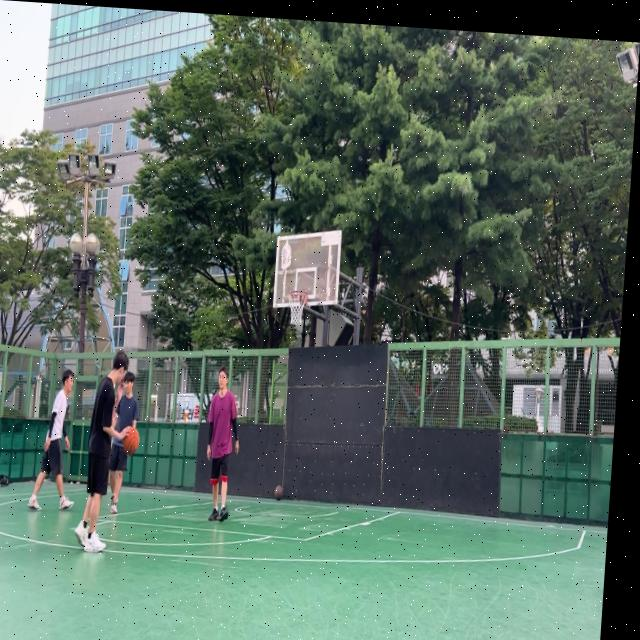basketball: (122, 426, 140, 456), (274, 484, 284, 502)
hoop: (284, 288, 308, 328)
